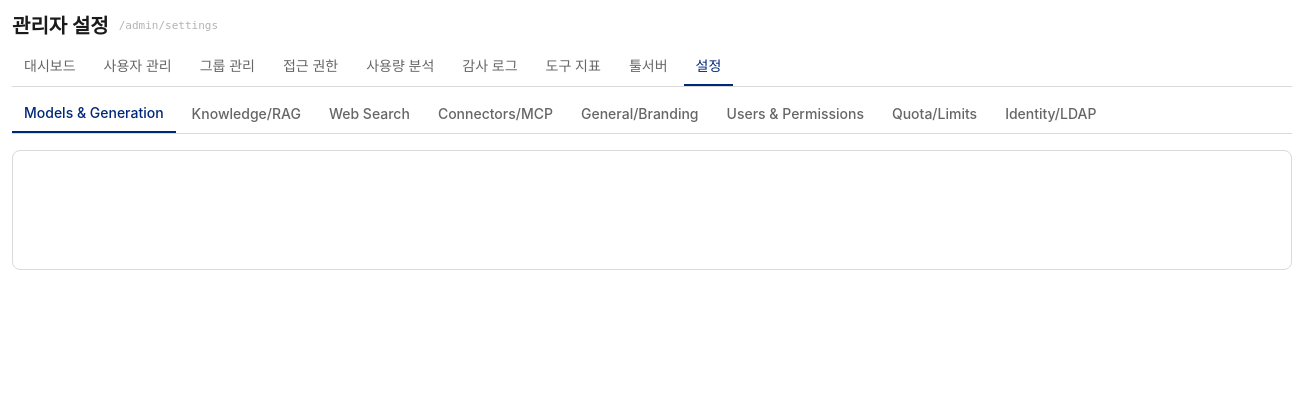
Scenario: AdminSettingsScreen › 나머지 6개 탭은 실제 필드를 렌더한다(플레이스홀더 텍스트 없음)
Check: the element named "관리자 설정 탭" is shown, box [12, 103, 1291, 134]
Click the tab with test id "admin-settings-tab-rag" at (246, 118), box [180, 103, 313, 133]
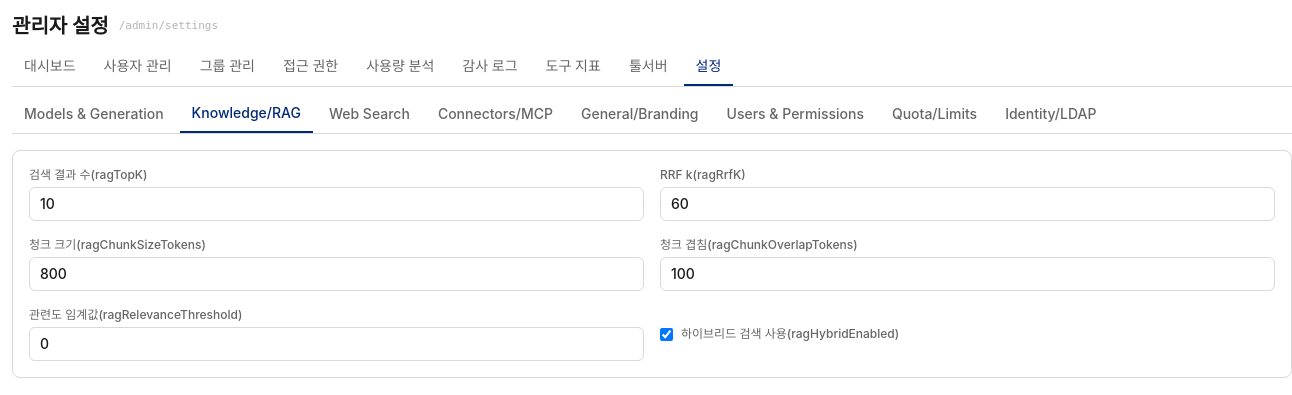
Check: the number field with test id "admin-settings-ragTopK" is shown, box [29, 187, 644, 221]
Click the tab "Web Search" at (369, 118), box [317, 103, 422, 133]
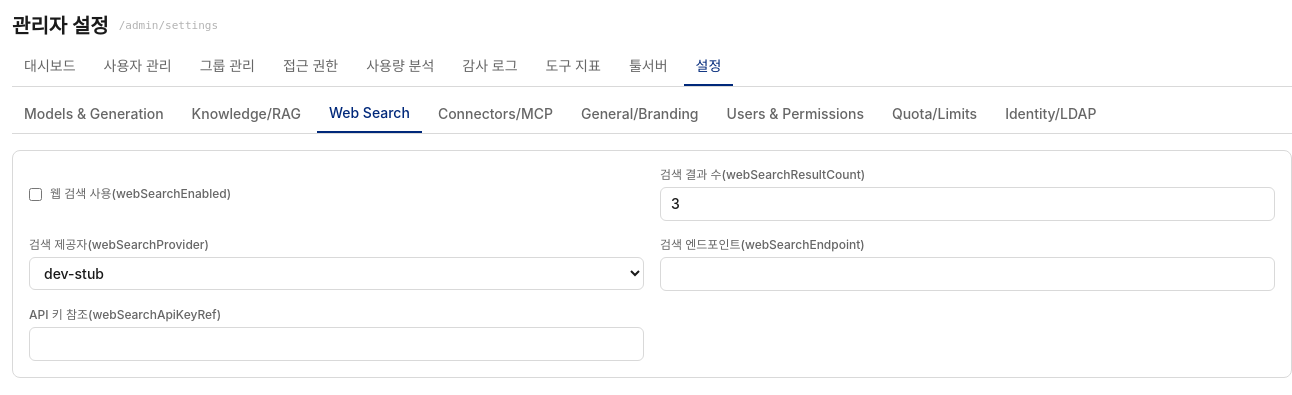
Check: the number field with test id "admin-settings-webSearchResultCount" is shown, box [660, 187, 1275, 221]
Click the tab "Connectors/MCP" at (495, 118), box [426, 103, 565, 133]
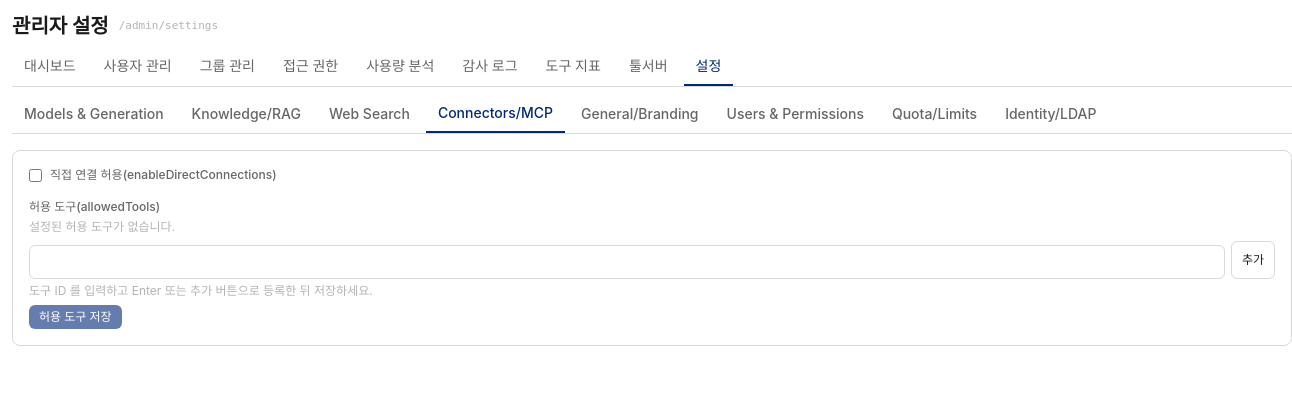
Check: the checkbox with test id "admin-settings-enableDirectConnections" is shown, box [29, 168, 42, 182]
Click the tab "General/Branding" at (640, 118), box [569, 103, 710, 133]
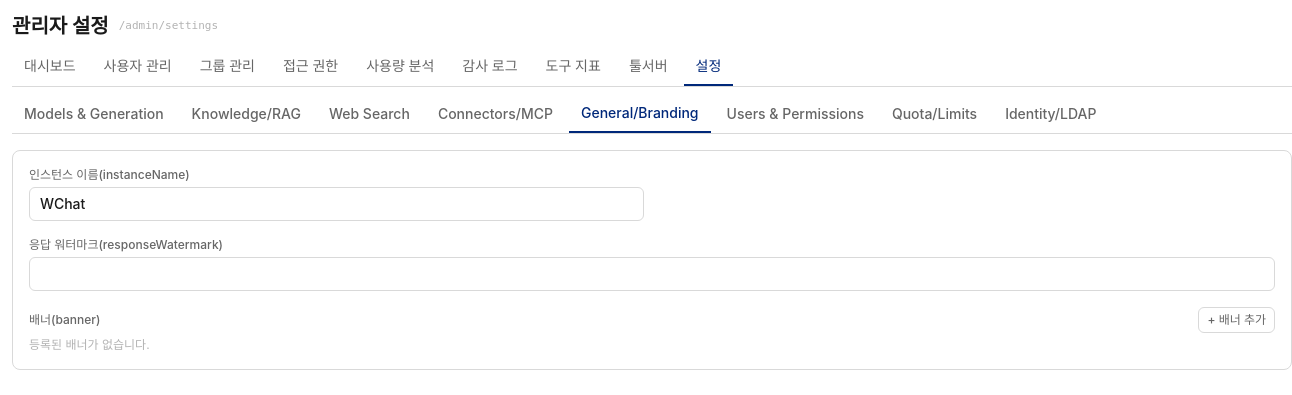
Check: the field with test id "admin-settings-instanceName" is shown, box [29, 187, 644, 221]
Click the tab with test id "admin-settings-tab-permissions" at (795, 118), box [714, 103, 876, 133]
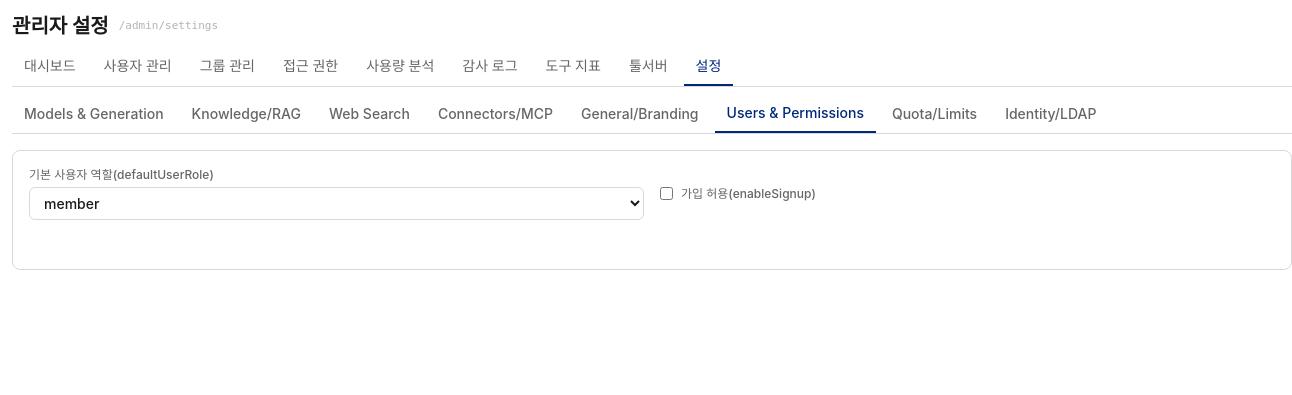
Check: the dropdown with test id "admin-settings-defaultUserRole" is shown, box [29, 187, 644, 220]
Click the tab "Quota/Limits" at (934, 118), box [880, 103, 989, 133]
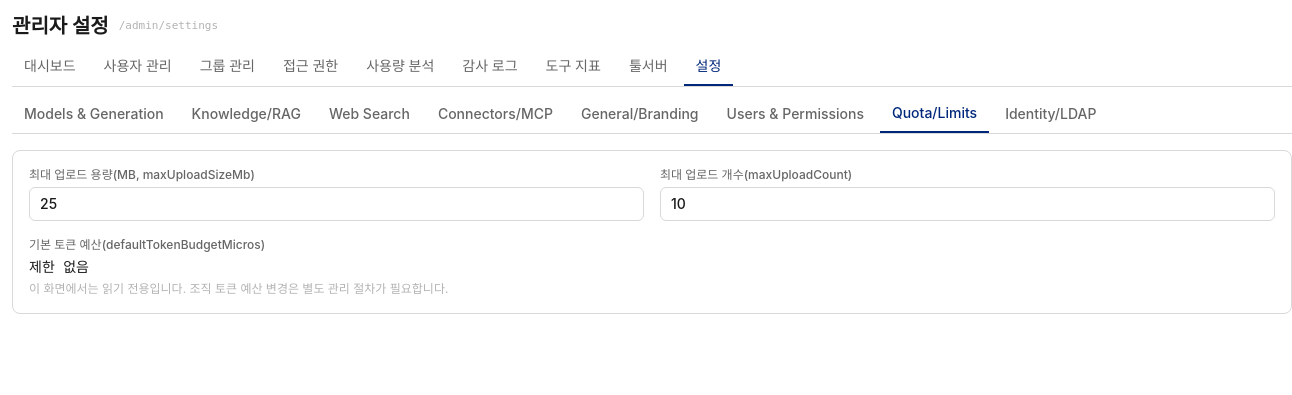
Check: the number field with test id "admin-settings-maxUploadSizeMb" is shown, box [29, 187, 644, 221]
